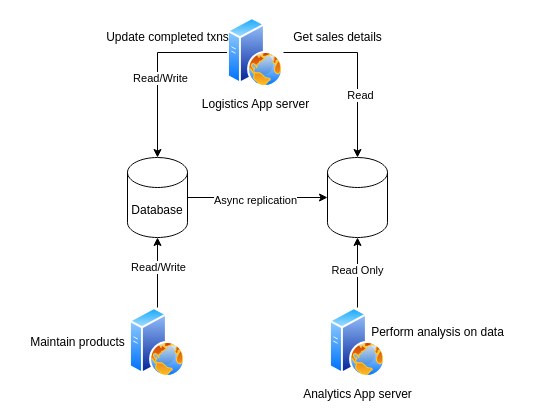
This 534x418 diagram has some shape labels left out. Each missing label, with the centre of its shape:
"Read Replica" belongs at point (357, 197).
"Sales App server" belongs at point (157, 342).
